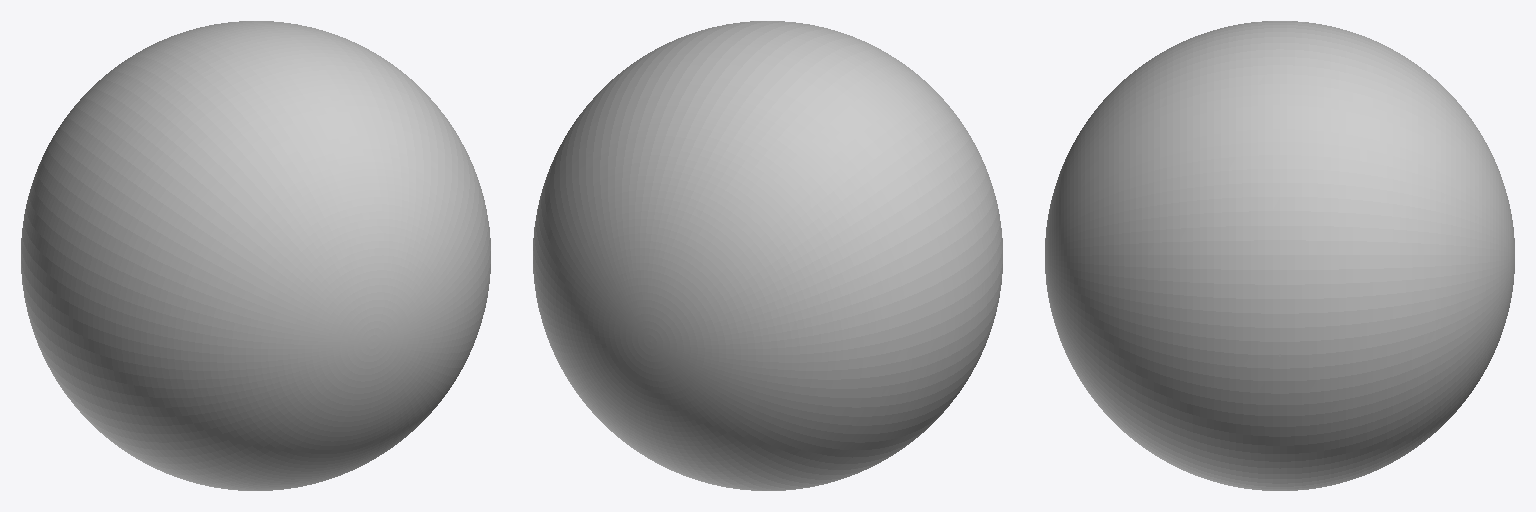
Rendered from Sfera.obj.
3 renders of one model, left to right at view 1: azimuth 30°, elevation 25°; view 2: azimuth 150°, elevation 25°; view 3: azimuth 270°, elevation 25°, orthographic.
Parts seen in each view (by area): view 1: Mesh1 Model; view 2: Mesh1 Model; view 3: Mesh1 Model.
Part boxes in pixels (x1,y1,x2,y2): Mesh1 Model: (21, 21, 490, 490); Mesh1 Model: (533, 21, 1002, 490); Mesh1 Model: (1045, 21, 1514, 490).
Size of the model in its own units: 80.09 by 80 by 80.